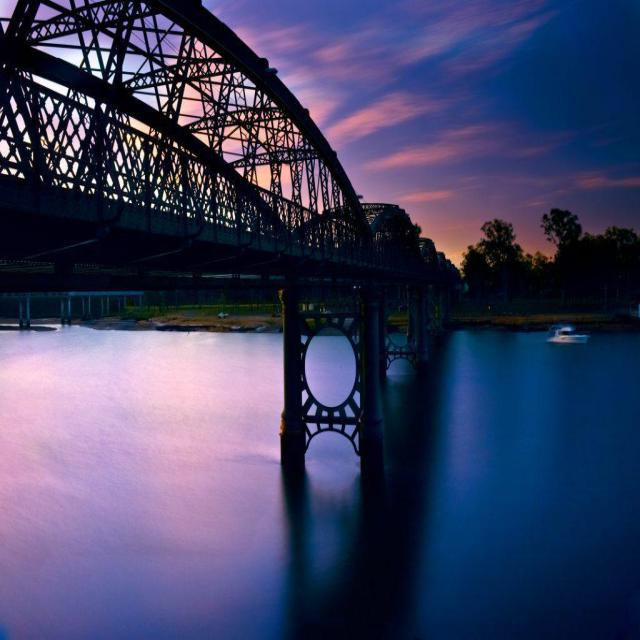other: (159, 48, 325, 197), (423, 232, 472, 275)
